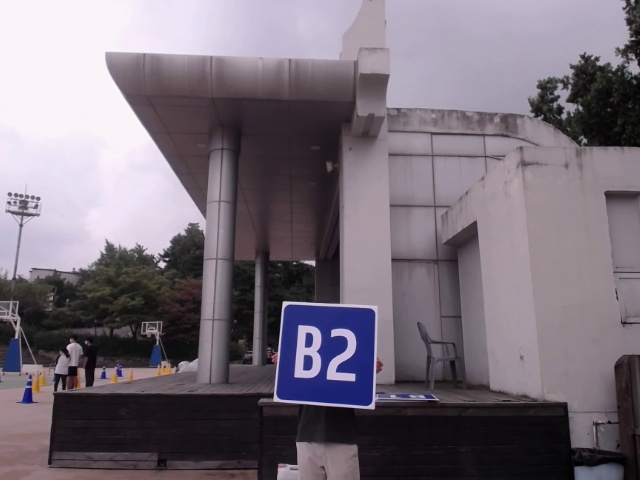delivery_b2: (277, 299, 377, 406)
